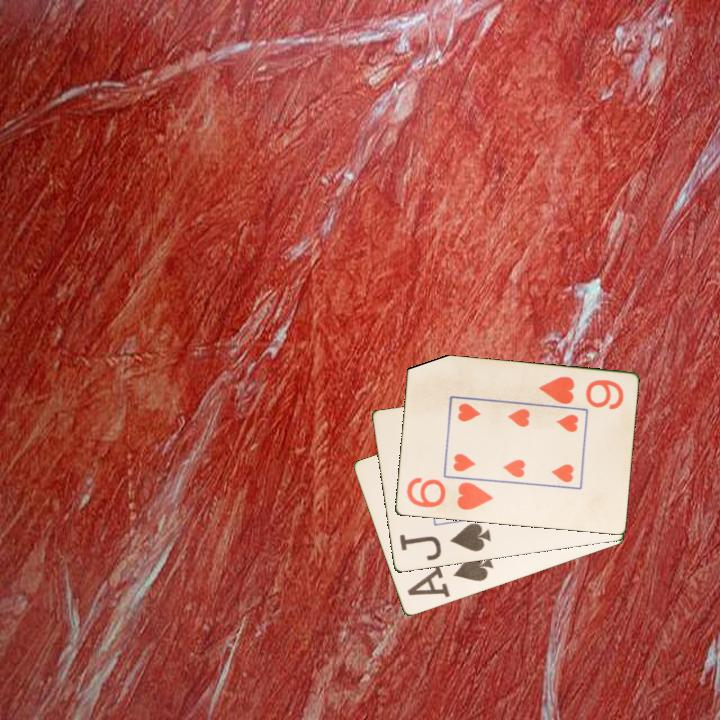6h: (403, 475, 496, 514), (535, 373, 627, 412)
As: (412, 550, 496, 595)
Js: (396, 520, 493, 564)
